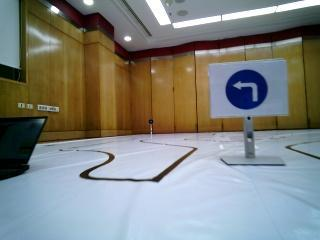left: (215, 67, 283, 112)
